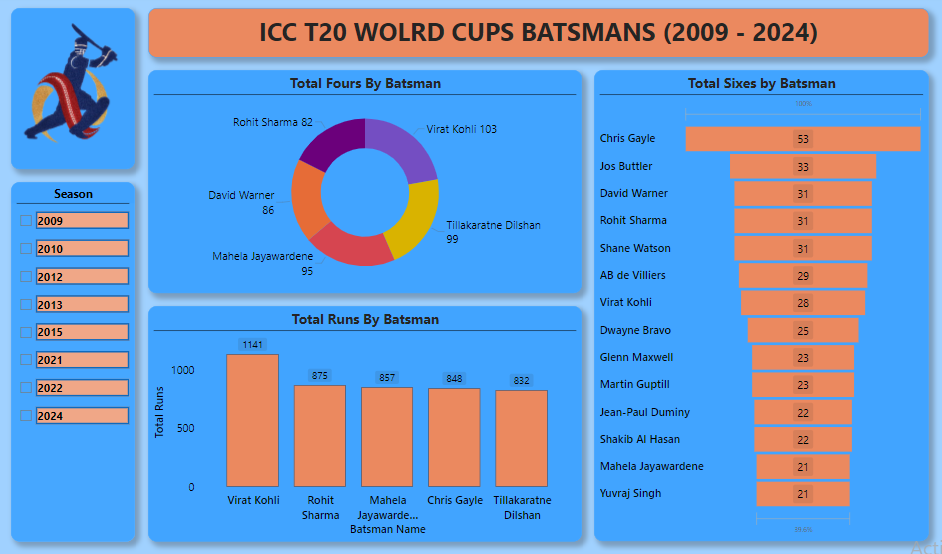

The page's visual inventory and layout, read from the dashboard file:
{"tool":"powerbi","page":{"name":"Batsman","canvas":[1830,1080],"ordinal":1},"visuals":[{"type":"clusteredColumnChart","title":"Total Runs By Batsman","fields":{"Category":["players.Full Name"],"Y":["Sum(Batsman.batsmanRuns)"]},"box":[288,600,840,456],"z":0},{"type":"funnel","title":"Total Sixes by Batsman","fields":{"Category":["players.Full Name"],"Y":["Batsman.Bat_six"]},"box":[1152,144,648,912],"z":1000},{"type":"donutChart","title":"Total Fours By Batsman","fields":{"Category":["players.Full Name"],"Y":["Batsman.Bat_Fours"]},"box":[288,144,840,432],"z":2000},{"type":"textbox","box":[288,24,1512,96],"z":3000},{"type":"slicer","title":"Season","fields":{"Values":["season.season"]},"box":[24,360,240,696],"z":4000},{"type":"image","box":[24,24,240,312],"z":5000}]}

Visuals, with their boxes in screenshot pixels (x1, y1, x2, y2), scaled from the page's 1830x1080 canvas onto the 942x554 screenshot:
"Total Runs By Batsman" clusteredColumnChart: Rect(148, 308, 581, 542)
"Total Sixes by Batsman" funnel: Rect(593, 74, 927, 542)
"Total Fours By Batsman" donutChart: Rect(148, 74, 581, 295)
textbox: Rect(148, 12, 927, 62)
"Season" slicer: Rect(12, 185, 136, 542)
image: Rect(12, 12, 136, 172)
